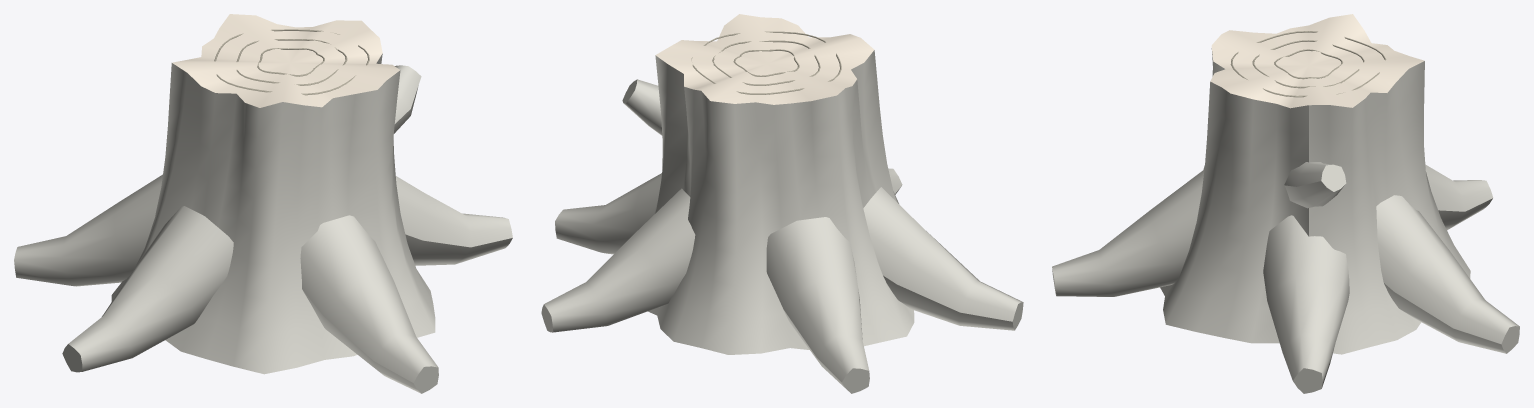
The model's file is SM_WLA_Stump_A.fbx.
3 renders of one model, left to right at view 1: azimuth 30°, elevation 25°; view 2: azimuth 150°, elevation 25°; view 3: azimuth 270°, elevation 25°, orthographic. The views are drawn at different scales.
Visible parts, largest first — view 1: SM_WLA_Stump_A; view 2: SM_WLA_Stump_A; view 3: SM_WLA_Stump_A.
Boxes of the visible parts, left/top/right/bottom form: SM_WLA_Stump_A: left=14, top=14, right=512, bottom=393; SM_WLA_Stump_A: left=541, top=14, right=1023, bottom=393; SM_WLA_Stump_A: left=1052, top=14, right=1519, bottom=393.
Size of what is drawn, in the model's own units: 1.5 by 1.64 by 0.838.
